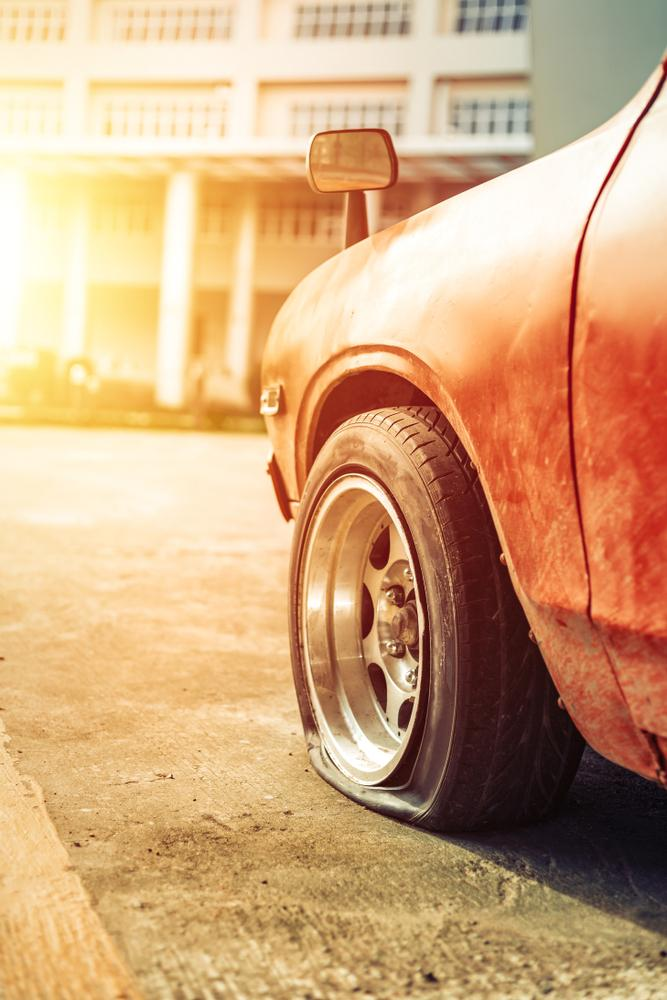tire flat: (288, 405, 583, 829)
